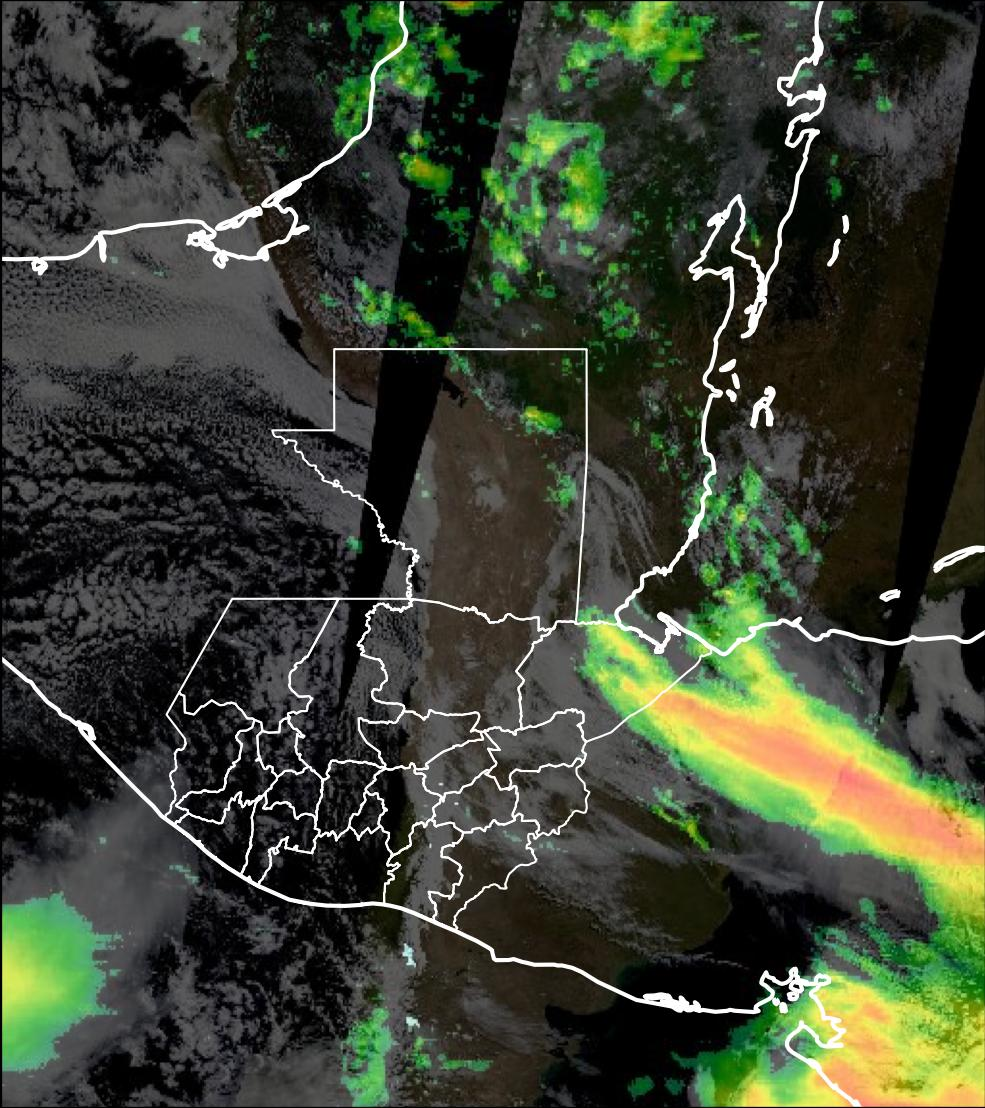precipitacion: (663, 694, 985, 923)
